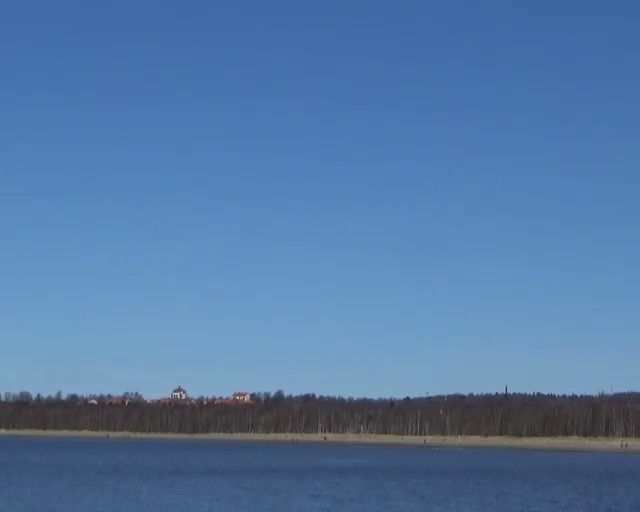HELICOPTER: (170, 385, 187, 399)
